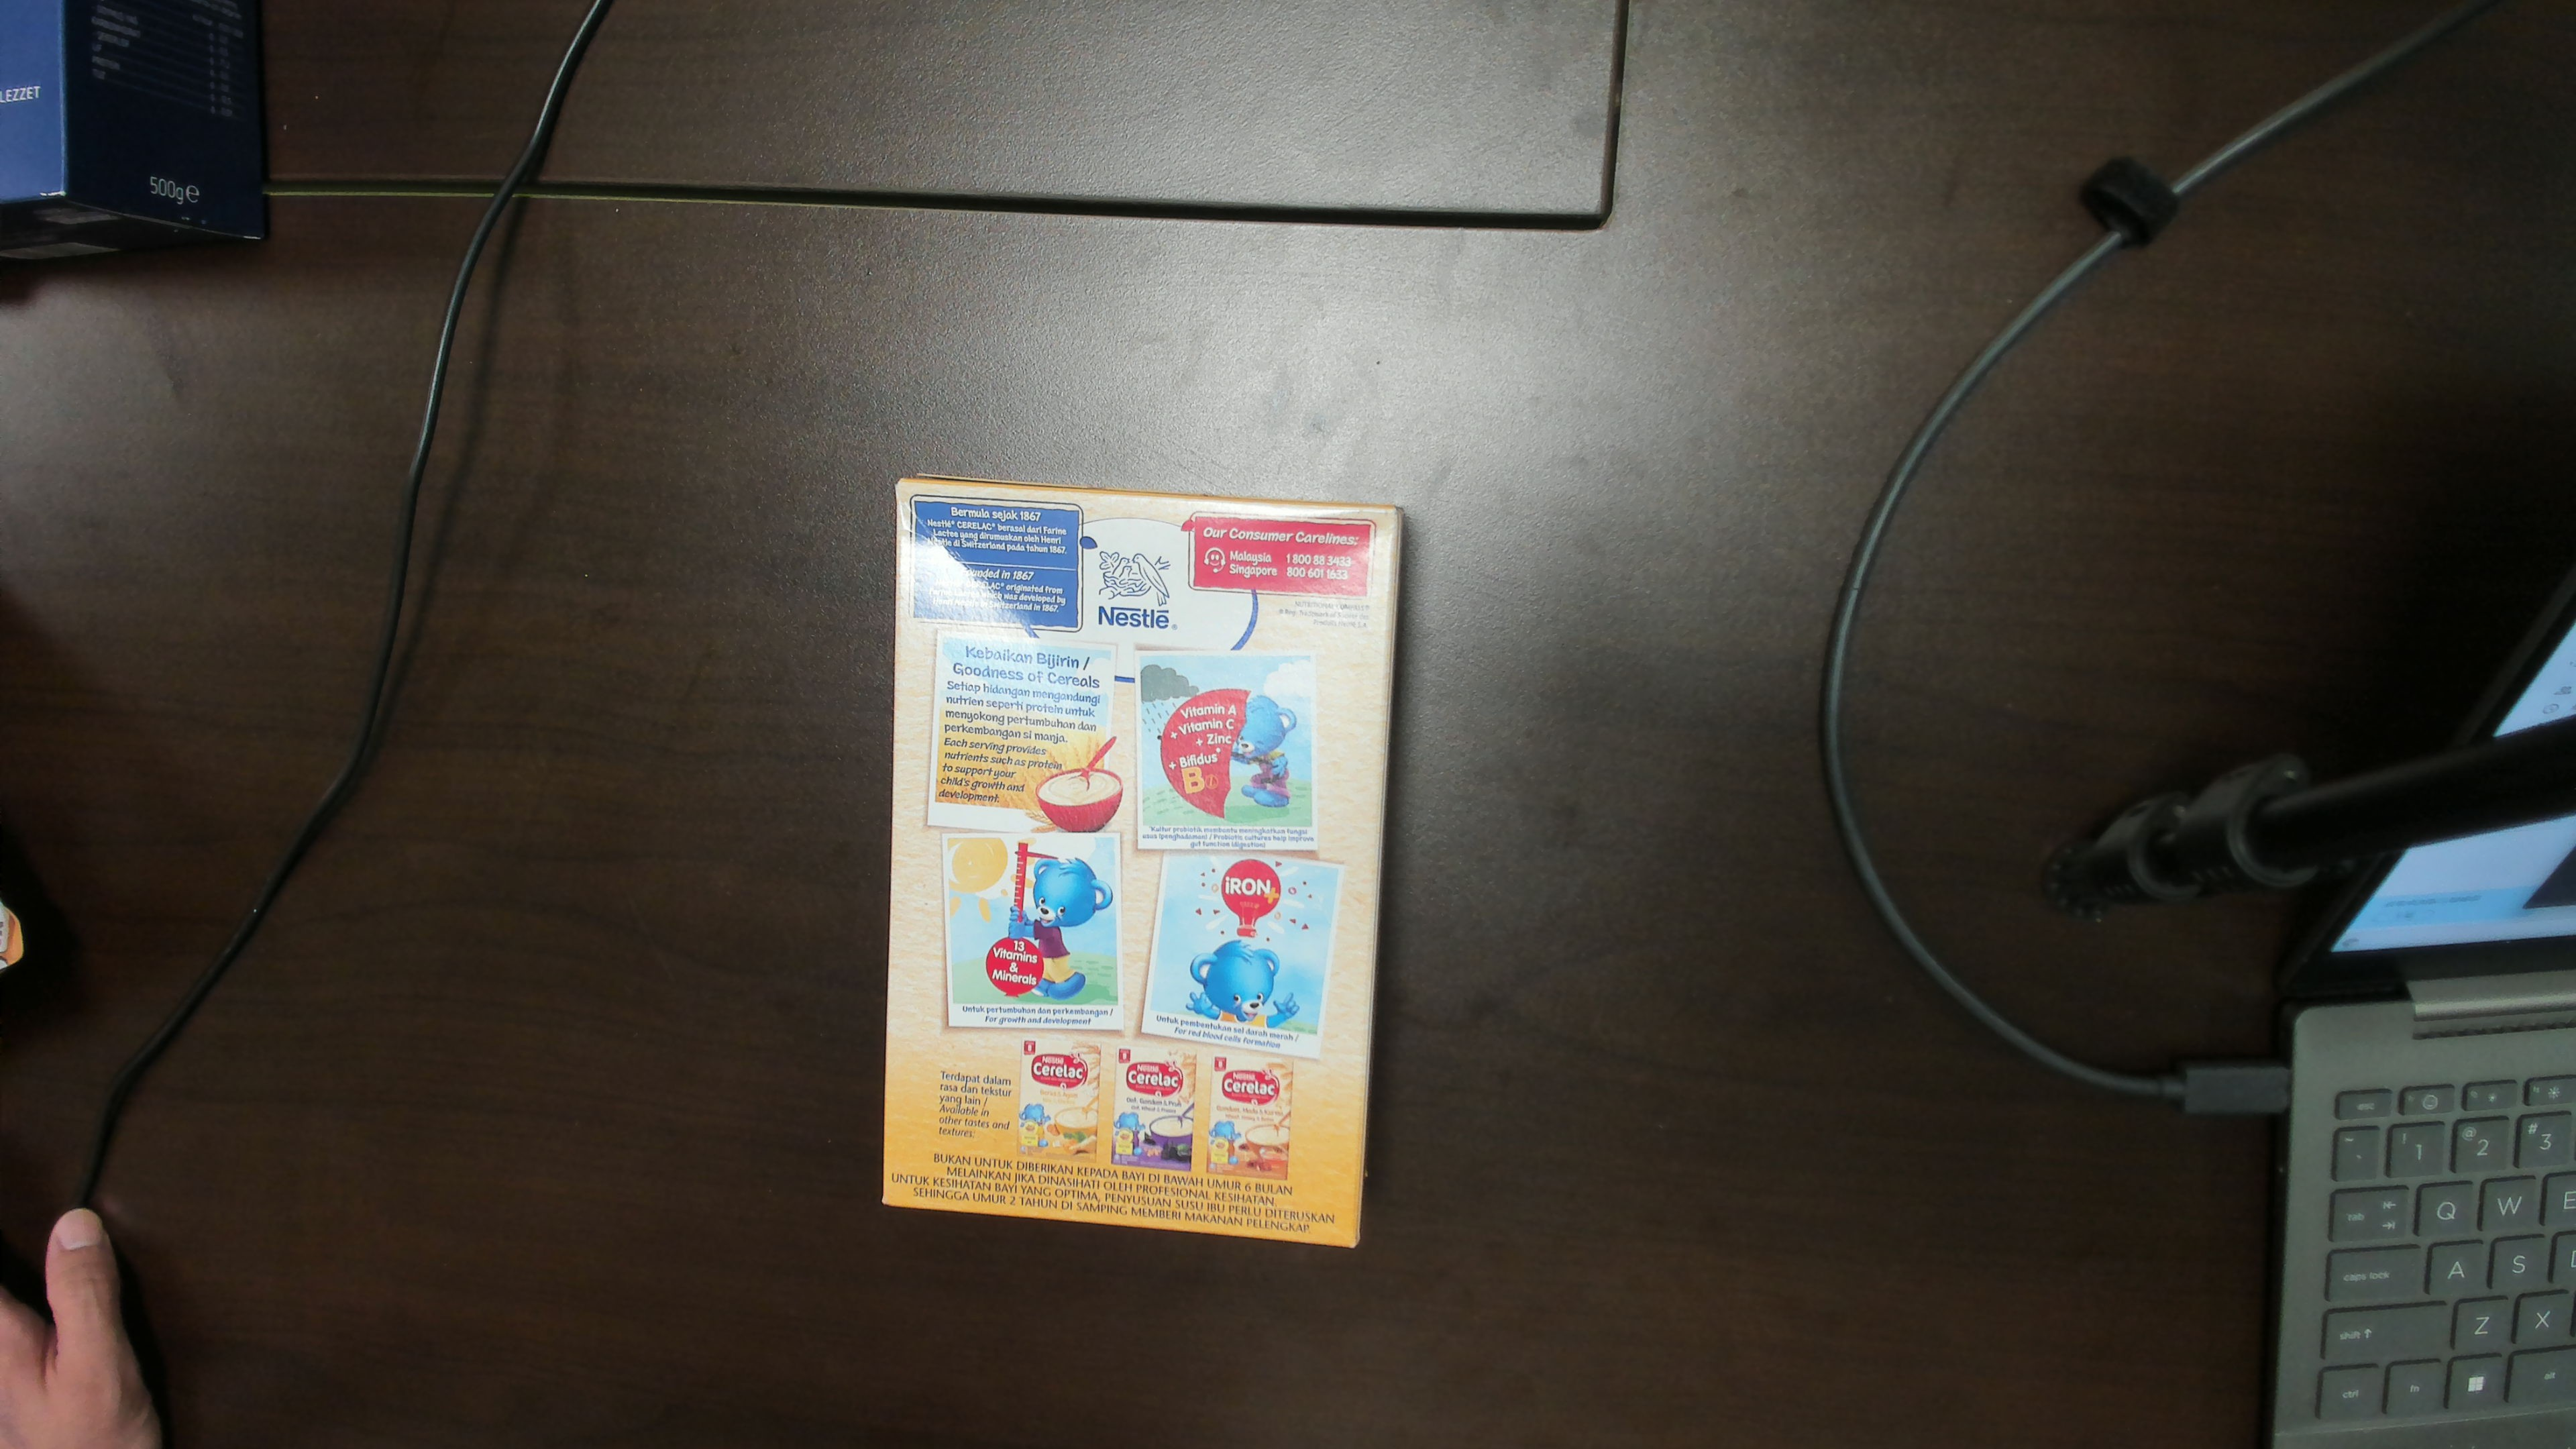Babyfood_200-299g_Halal_NonHealthy: (909, 522, 1357, 1215)
